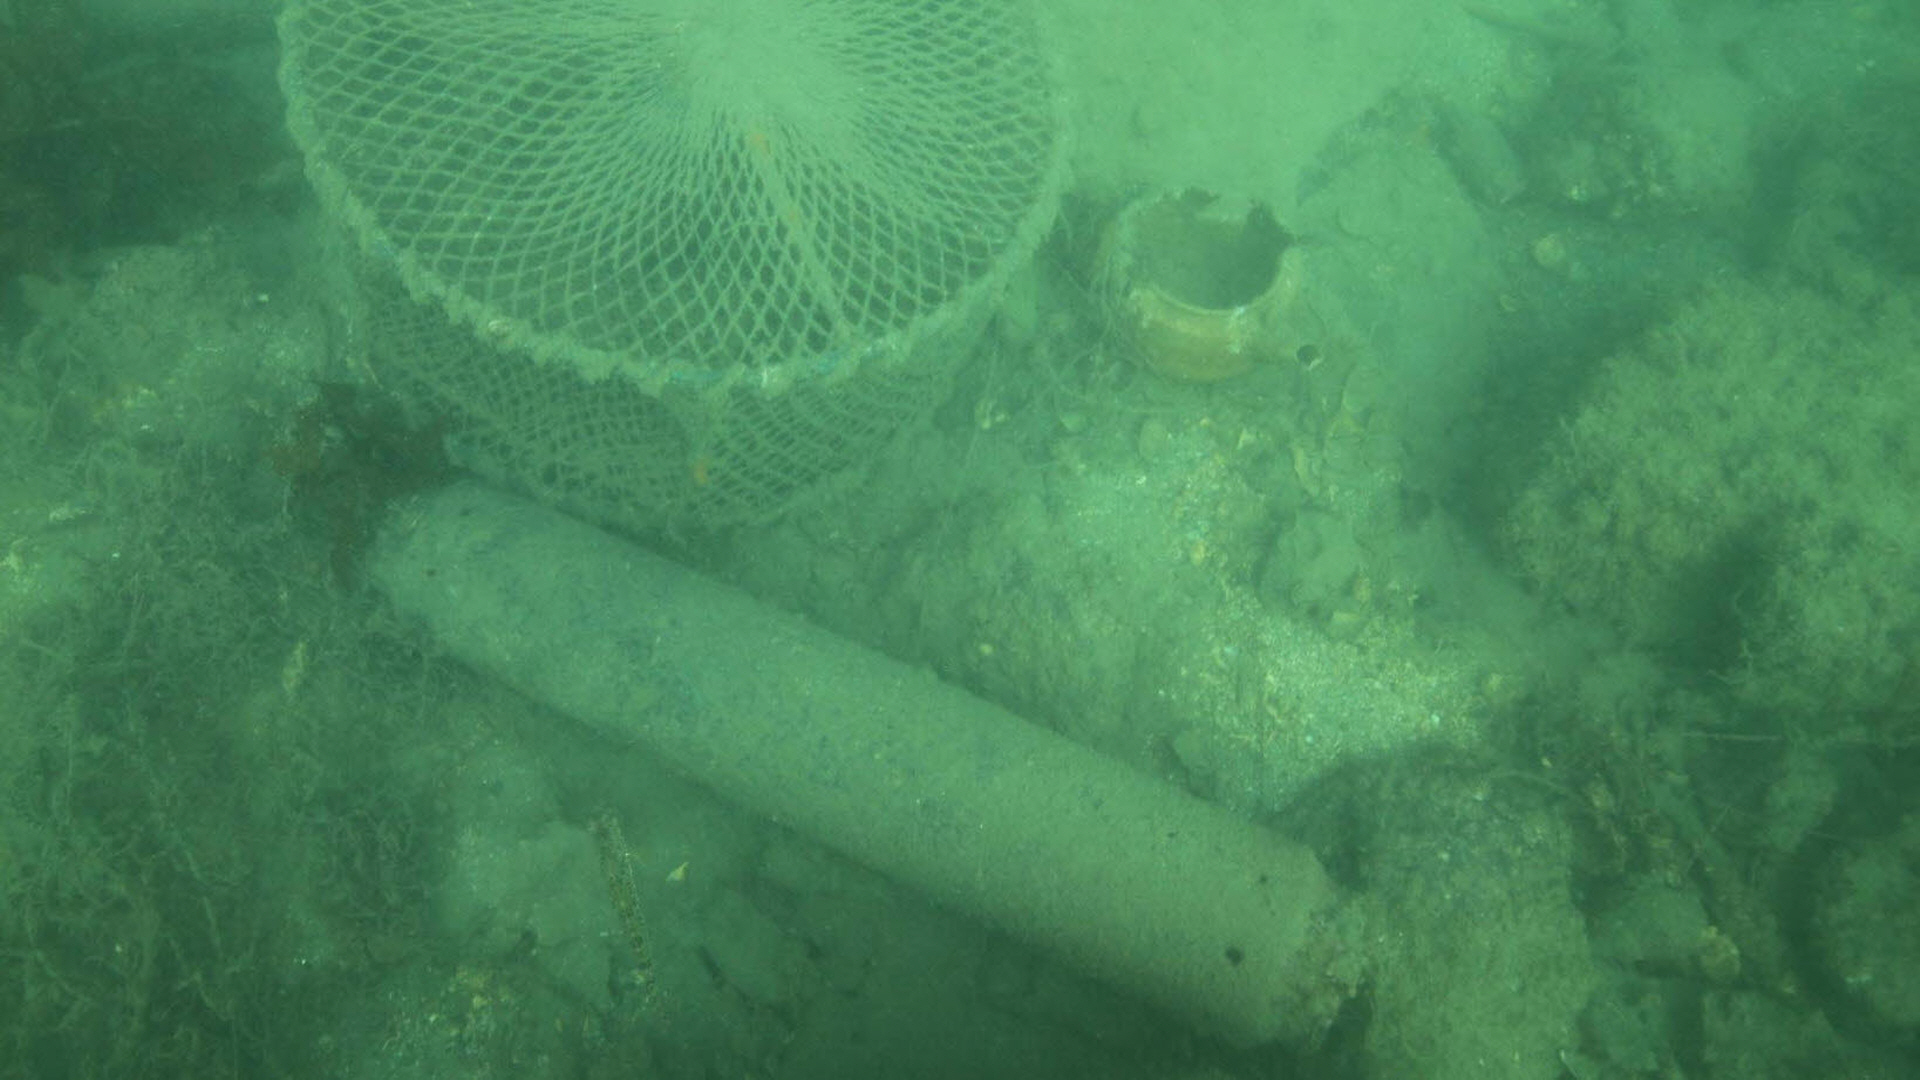circular fish trap: (274, 0, 1073, 527)
eel fish trap: (355, 477, 1386, 1058)
